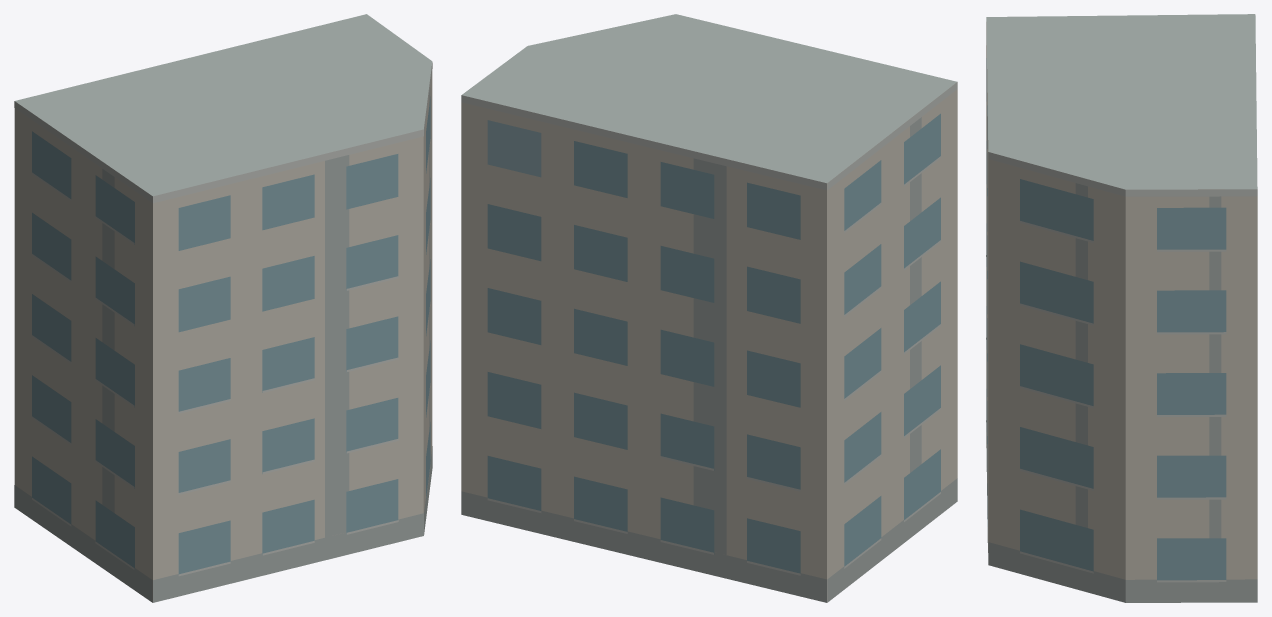
The model's file is survey-upis-32967406.glb.
3 views of the same model, side by side, from view 1: azimuth 30°, elevation 25°; view 2: azimuth 150°, elevation 25°; view 3: azimuth 270°, elevation 25° (orthographic). The views are drawn at different scales.
Visible parts, largest first — view 1: survey-upis-32967406.tmp; view 2: survey-upis-32967406.tmp; view 3: survey-upis-32967406.tmp.
Part boxes in pixels (x1,y1,x2,y2): survey-upis-32967406.tmp: (14, 14, 432, 602); survey-upis-32967406.tmp: (461, 14, 957, 602); survey-upis-32967406.tmp: (986, 14, 1257, 602).
Bounding box in the file's own units: 12.96 × 14.2 × 8.46.
